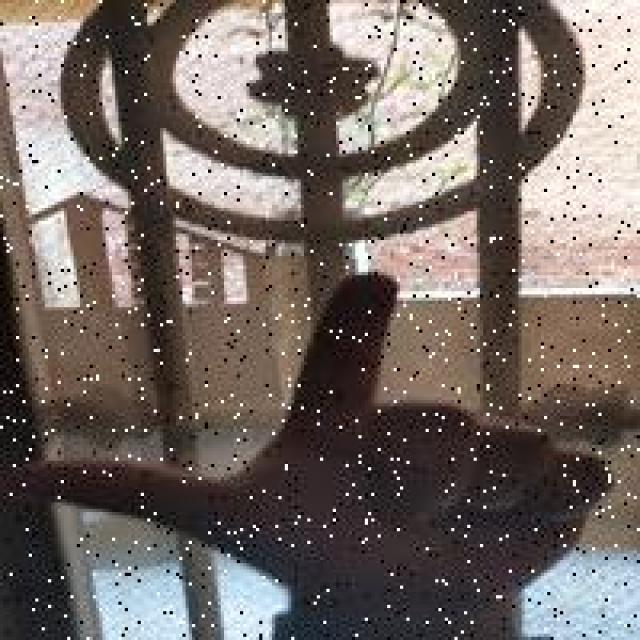L: (21, 264, 622, 635)
